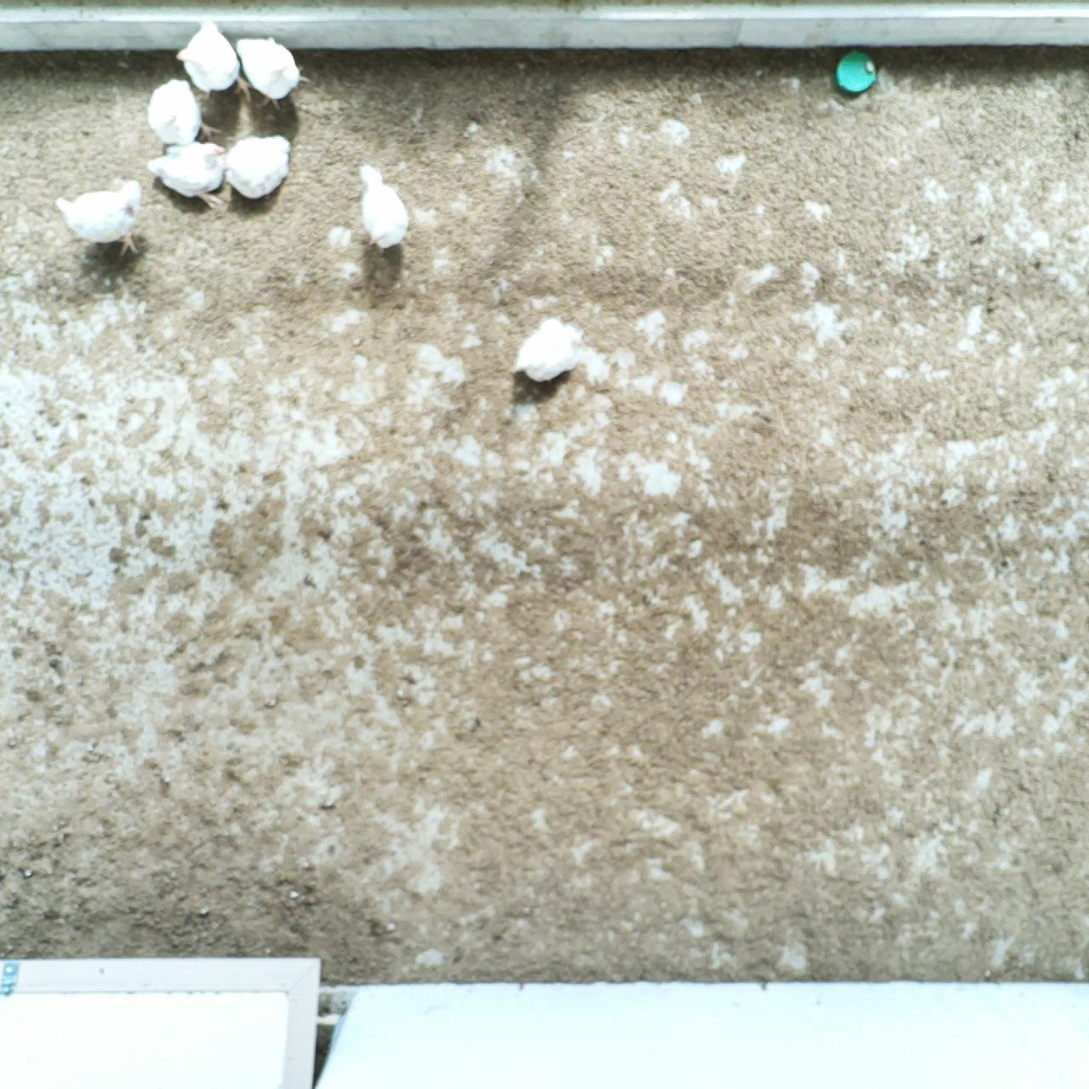chicken: (47, 176, 148, 267), (172, 14, 256, 105), (232, 32, 314, 116), (145, 136, 230, 214), (504, 314, 591, 384), (215, 131, 294, 207), (144, 75, 225, 149), (353, 159, 413, 257)
